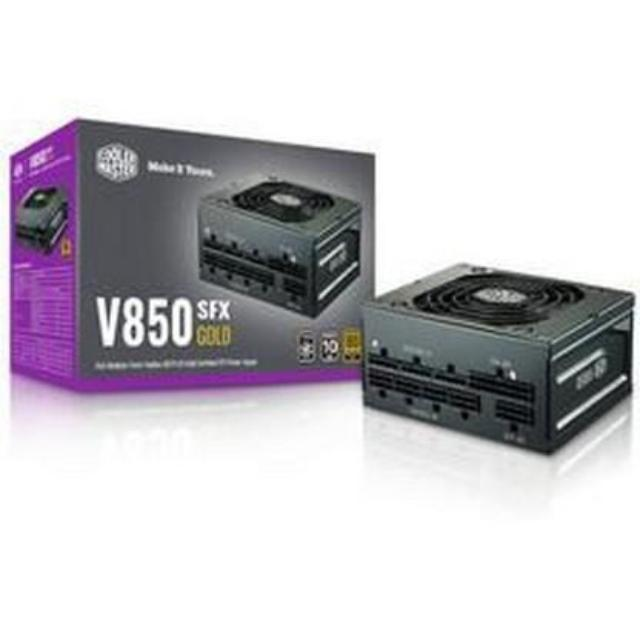PSU: (346, 259, 640, 459), (188, 172, 377, 320)
